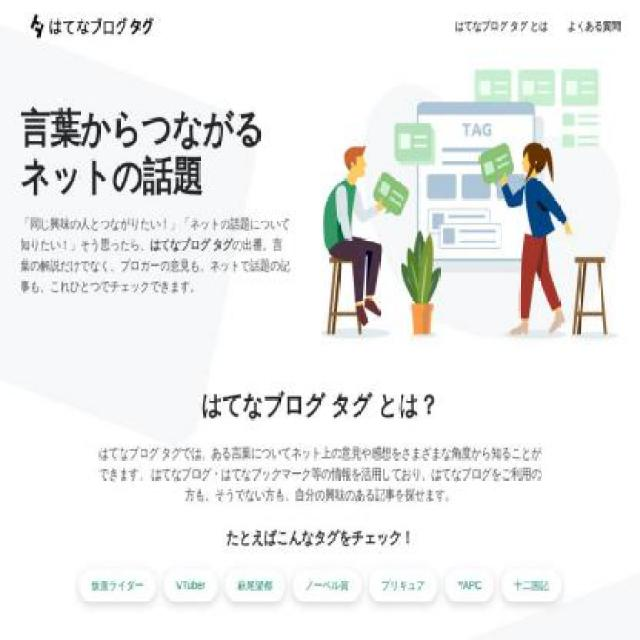button: (19, 0, 163, 52), (78, 569, 156, 603), (368, 569, 438, 603), (293, 569, 362, 603), (225, 569, 286, 603), (501, 569, 562, 603), (163, 569, 219, 603), (446, 569, 494, 603)
